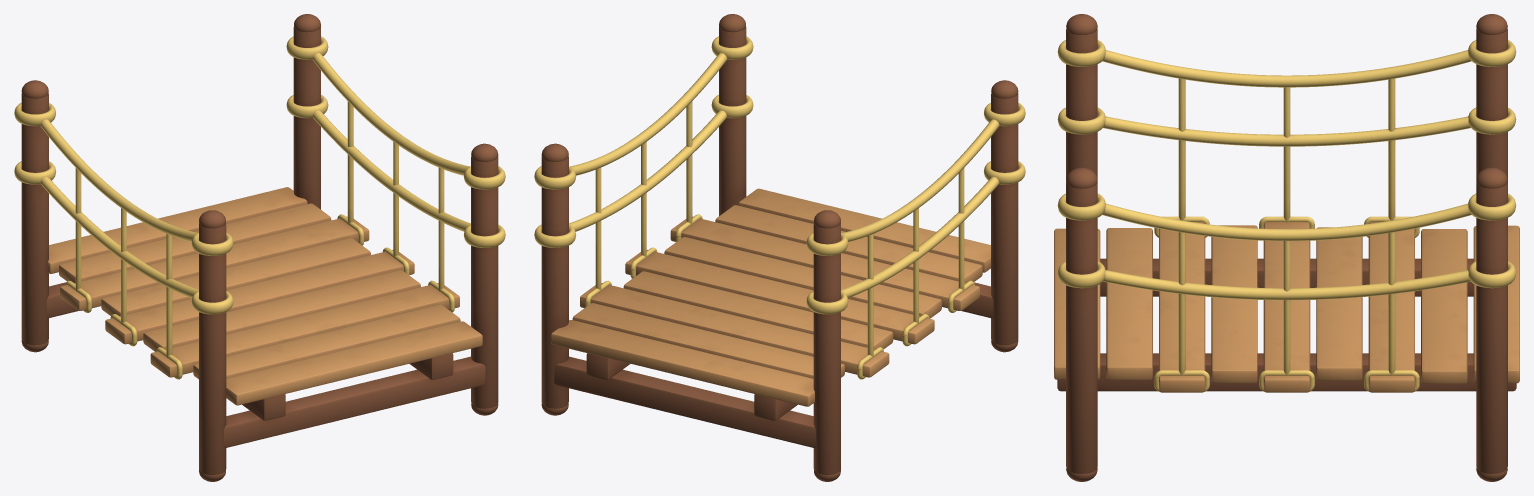
The model's file is plank-bridge-segment.fbx.
3 renders of one model, left to right at view 1: azimuth 30°, elevation 25°; view 2: azimuth 150°, elevation 25°; view 3: azimuth 270°, elevation 25°, orthographic. The views are drawn at different scales.
Visible parts, largest first — view 1: plank-bridge-segment_body; view 2: plank-bridge-segment_body; view 3: plank-bridge-segment_body.
Part boxes in pixels (x1,y1,x2,y2): plank-bridge-segment_body: [14, 14, 505, 481]; plank-bridge-segment_body: [534, 14, 1025, 481]; plank-bridge-segment_body: [1054, 14, 1519, 481].
Bounding box in the file's own units: 1.77 × 1.47 × 2.
Materials: 1 (1 with a texture image).
